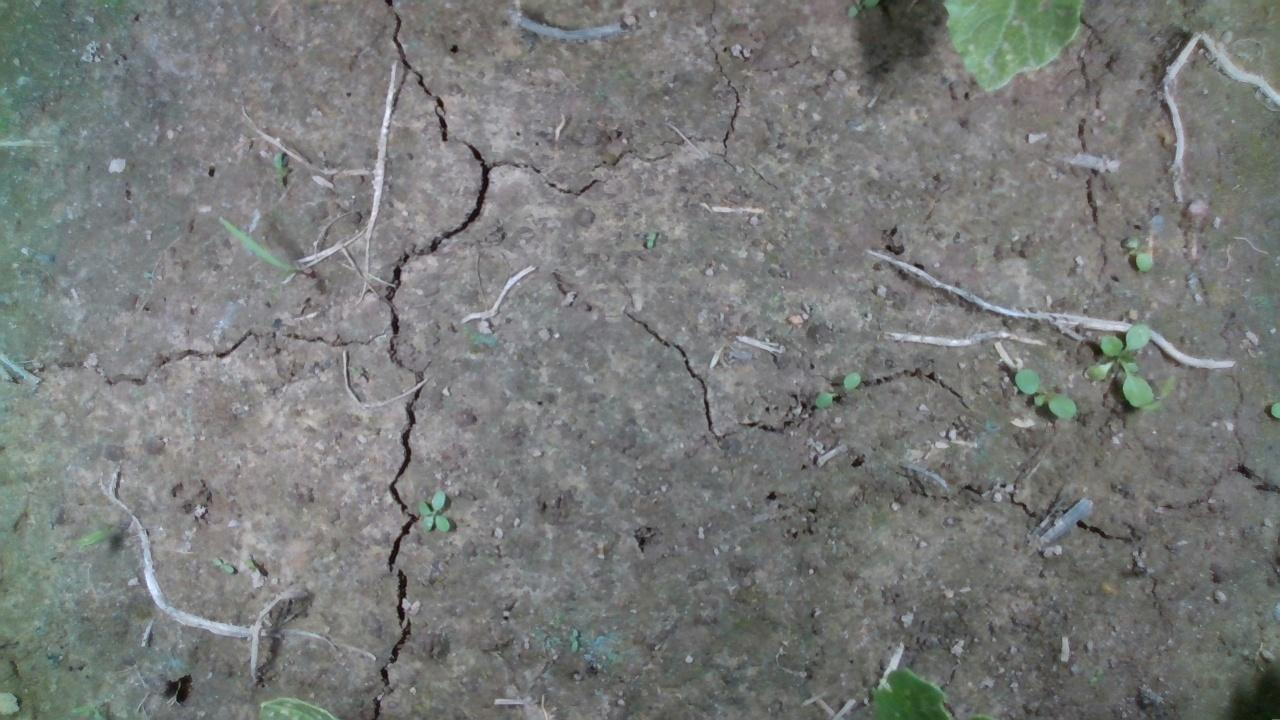weed: (1083, 322, 1153, 408), (1012, 366, 1076, 419), (812, 368, 861, 408), (415, 490, 449, 532), (1119, 236, 1154, 271), (209, 556, 234, 574)
